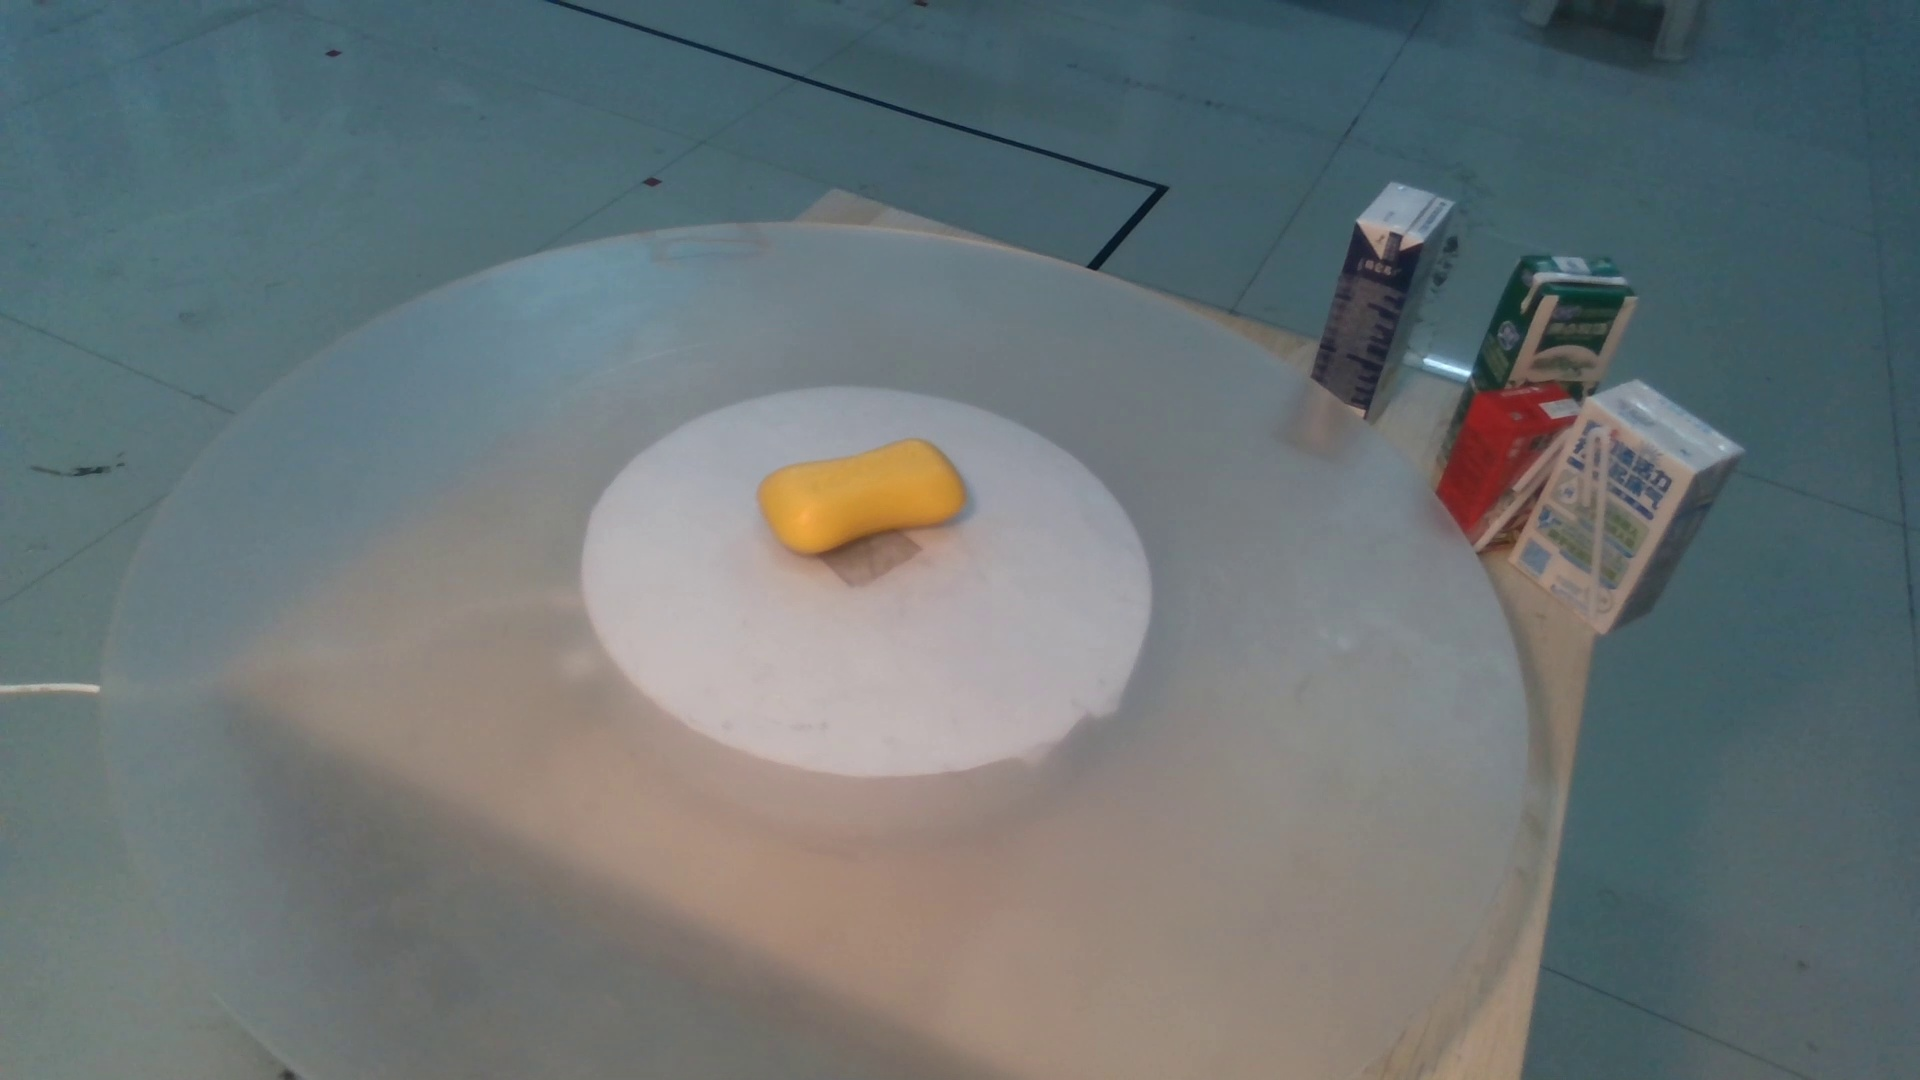CA003_1: (733, 419, 1002, 597)
